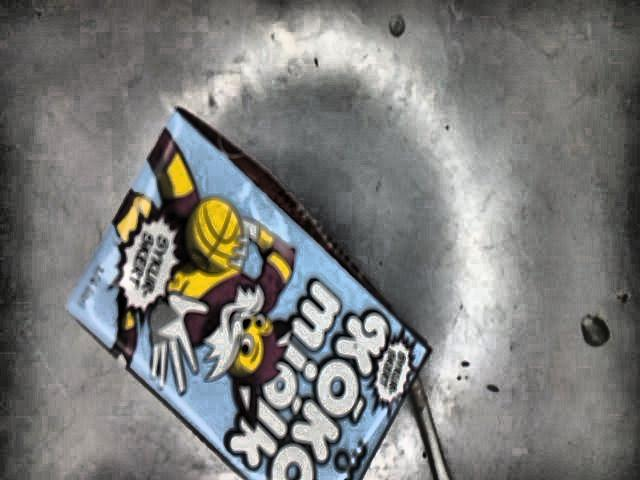Paper: (67, 107, 449, 480)
